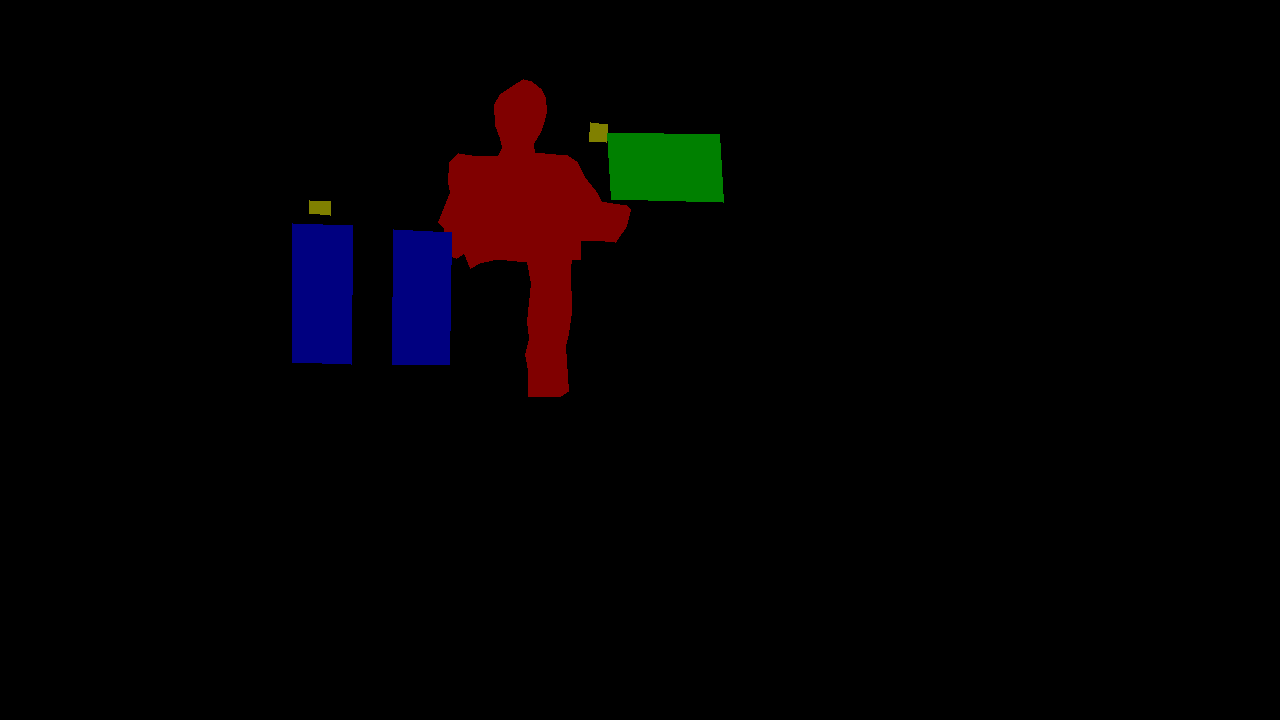door: (292, 223, 352, 364), (392, 229, 451, 364)
person: (438, 79, 630, 396)
sign: (589, 122, 607, 142), (309, 200, 330, 215)
tvmonitor: (607, 132, 723, 202)
